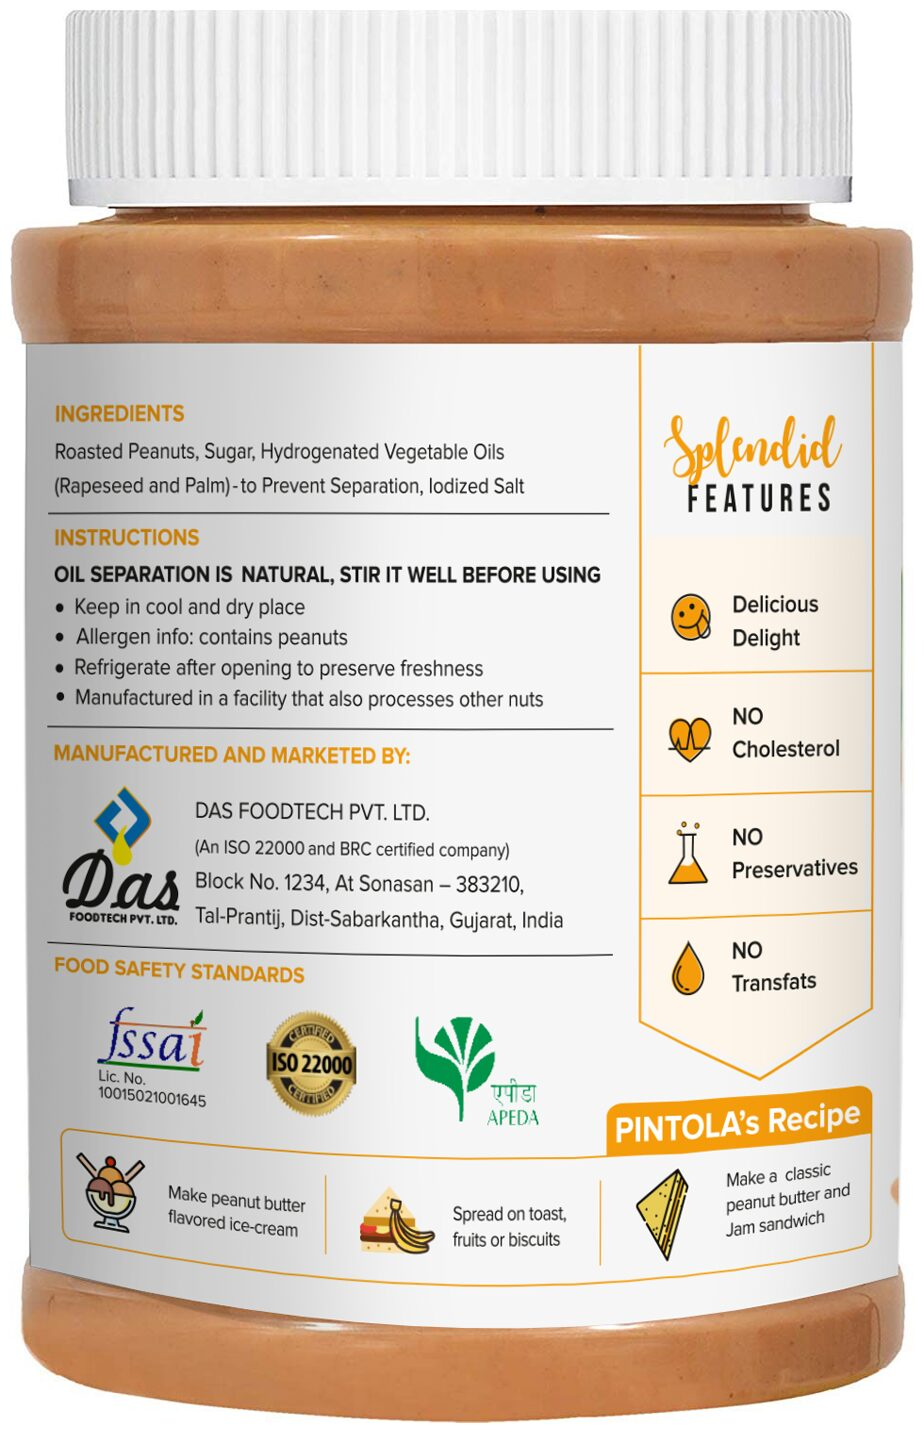fssai: (95, 1004, 207, 1070)
